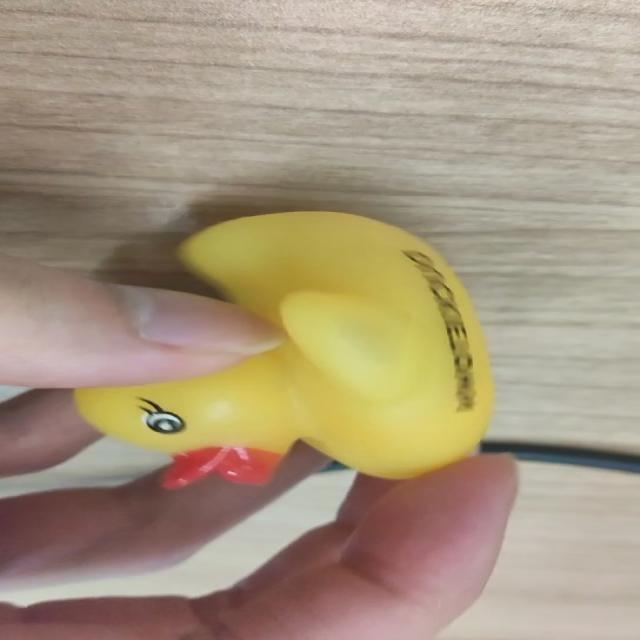rubber-duck: (74, 211, 491, 486)
